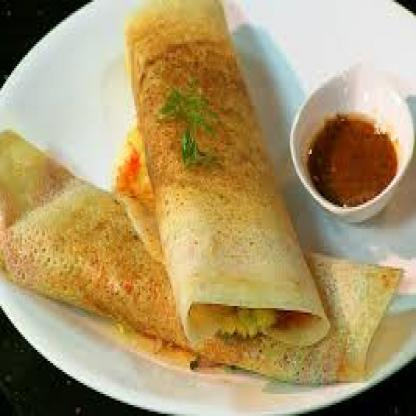dosa: (0, 130, 403, 387), (112, 0, 330, 347)
